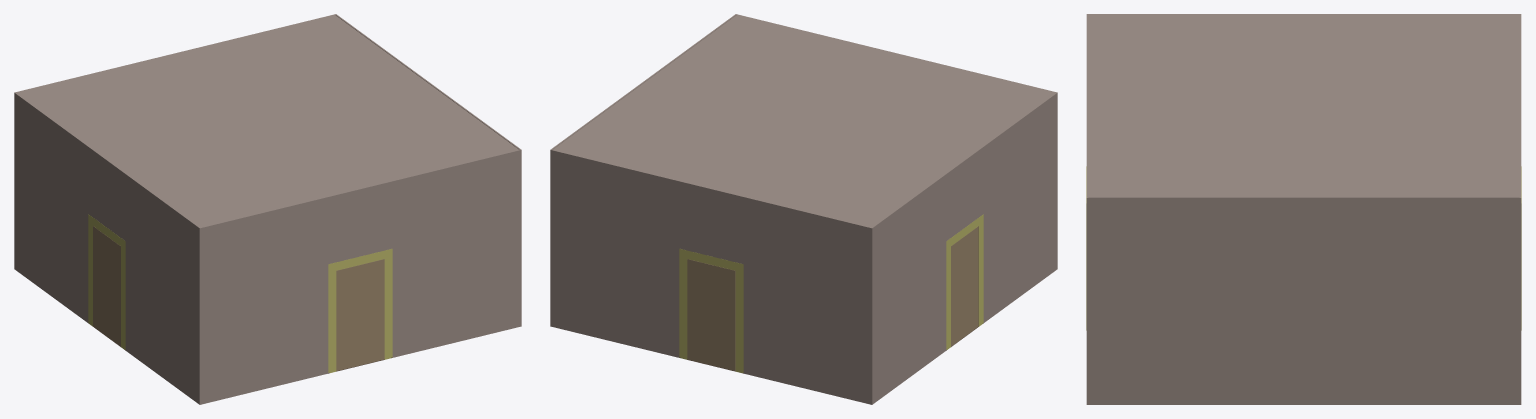
File: Room21_FurnaceRoom.fbx
The picture shows the model from 3 angles, left to right: view 1: azimuth 30°, elevation 25°; view 2: azimuth 150°, elevation 25°; view 3: azimuth 270°, elevation 25°; orthographic projection. The views are drawn at different scales.
Parts seen in each view (by area): view 1: Roof, WallSlicedPosZ, WallSlicedPosX, DoorPosZ, DoorPosX, DoorFramePosZ, DoorFramePosX, WallNegX, WallSlicedNegZ; view 2: Roof, WallSlicedNegZ, WallSlicedPosX, DoorNegZ, DoorPosX, DoorFrameNegZ, DoorFramePosX, WallNegX, WallSlicedPosZ; view 3: WallNegX, Roof, WallSlicedPosZ, WallSlicedNegZ, WallSlicedPosX.
Part boxes in pixels (x1,y1,x2,y2): Roof: [16, 15, 518, 227]; WallSlicedPosZ: [198, 149, 520, 404]; WallSlicedPosX: [14, 92, 201, 404]; DoorPosZ: [336, 259, 384, 371]; DoorPosX: [93, 226, 120, 346]; DoorFramePosZ: [328, 248, 392, 372]; DoorFramePosX: [88, 214, 125, 349]; WallNegX: [335, 14, 521, 326]; WallSlicedNegZ: [14, 14, 335, 269]; Roof: [553, 15, 1055, 227]; WallSlicedNegZ: [550, 149, 873, 404]; WallSlicedPosX: [870, 93, 1056, 404]; DoorNegZ: [687, 259, 735, 371]; DoorPosX: [951, 226, 978, 346]; DoorFrameNegZ: [679, 248, 743, 372]; DoorFramePosX: [946, 214, 983, 349]; WallNegX: [550, 14, 736, 326]; WallSlicedPosZ: [736, 14, 1057, 269]; WallNegX: [1086, 197, 1521, 404]; Roof: [1088, 14, 1519, 197]; WallSlicedPosZ: [1086, 14, 1088, 197]; WallSlicedNegZ: [1519, 14, 1521, 197]; WallSlicedPosX: [1087, 14, 1521, 14].
Bounding box in the file's own units: 100 × 53 × 100.
